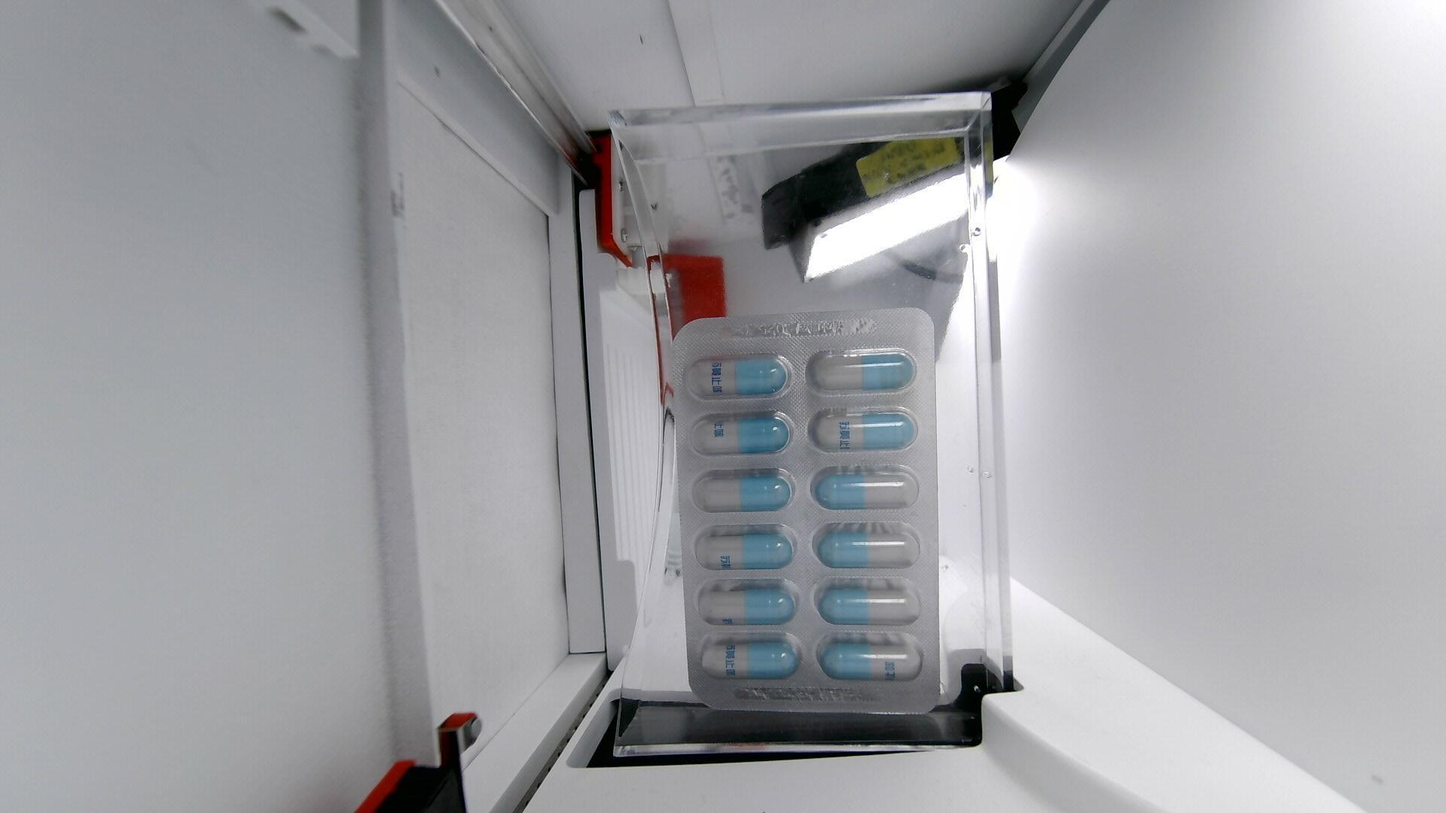Light Front: (673, 309, 950, 713)
Pill Front: (701, 632, 801, 685), (807, 348, 916, 395), (814, 522, 921, 568), (811, 409, 923, 452), (811, 466, 920, 510), (817, 579, 920, 625), (817, 636, 921, 681), (697, 579, 798, 625), (694, 524, 795, 570), (685, 354, 790, 397), (693, 468, 793, 512), (691, 413, 791, 455)
